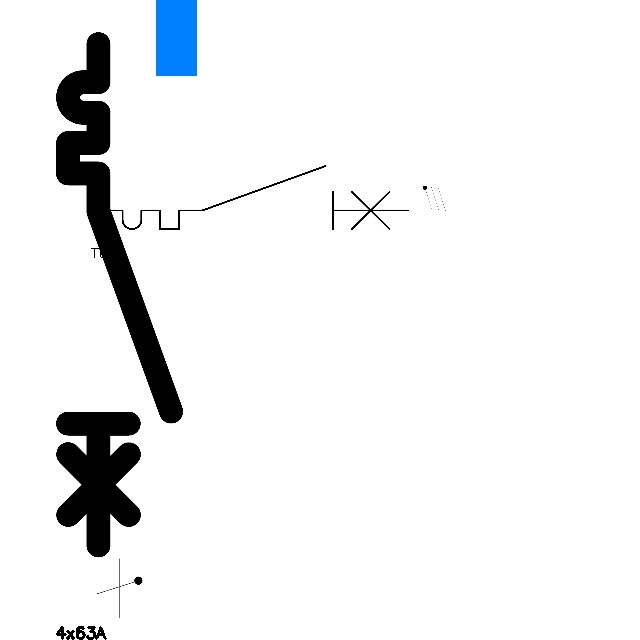interruptor_termomagnetico: (55, 31, 184, 558), (91, 158, 416, 237)
